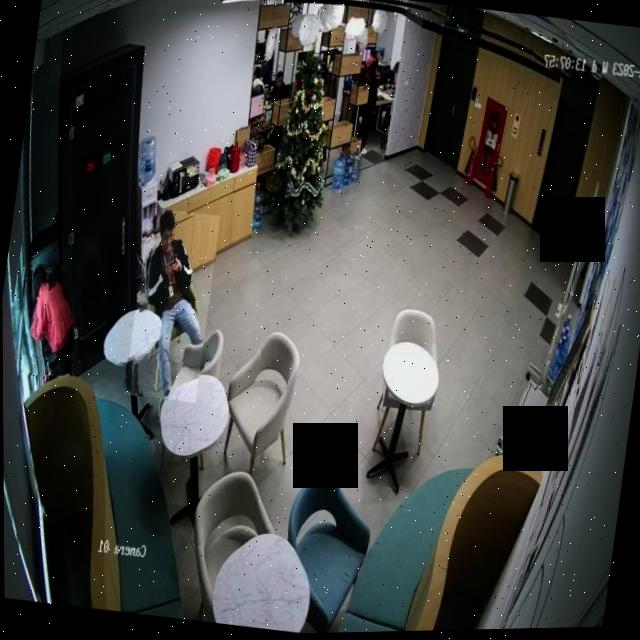person: (122, 207, 220, 405), (19, 262, 84, 381)
